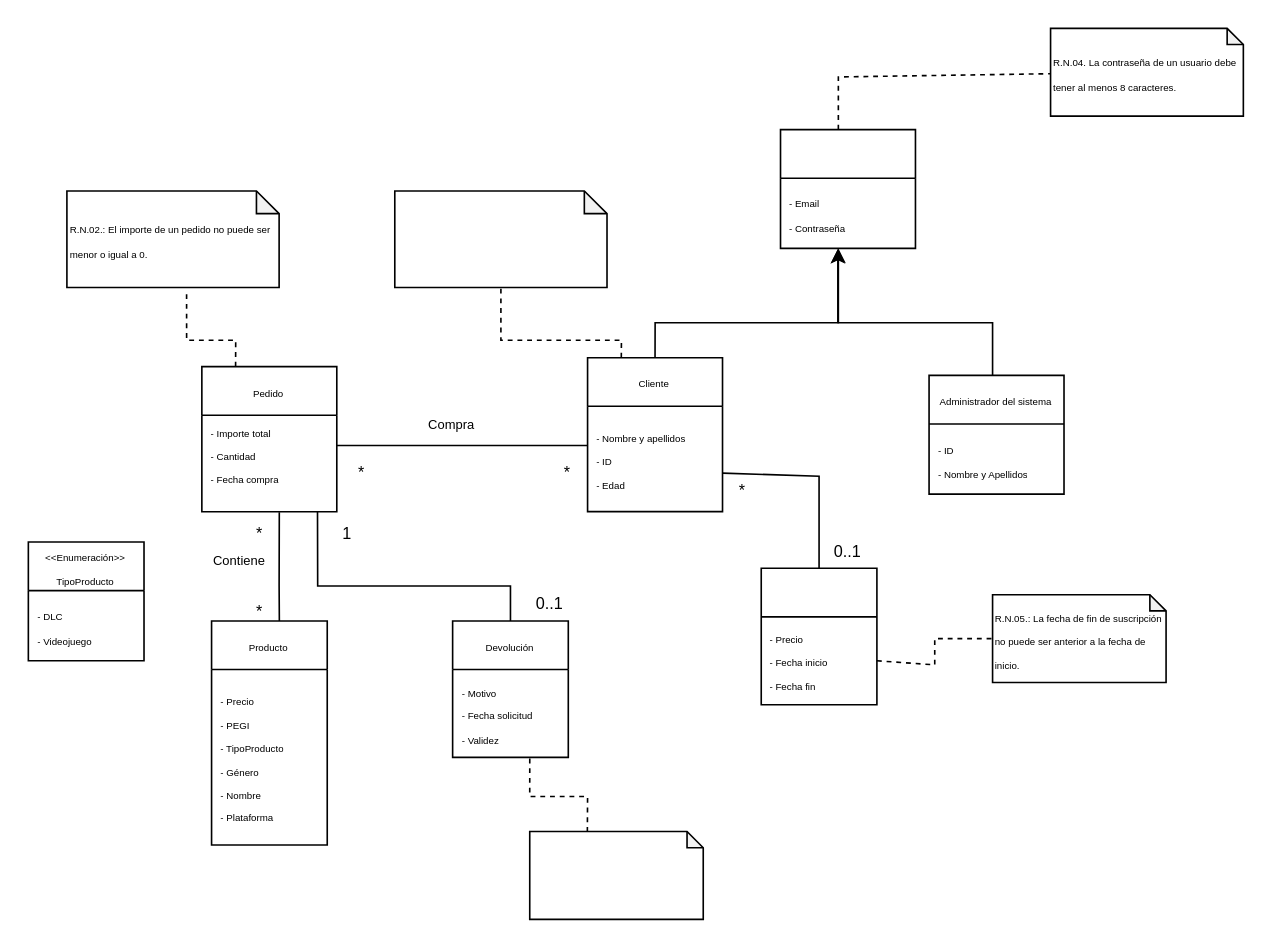
The diagram is 1272 pixels wide and 948 high, and some of its shapes have lost their labels. The box of each missing label's shape, as (x1, y1, x2, y2) in pixels:
R.N.01.: Los juegos PEGI 18 no podrán ser vendidos a menores de edad: (393, 189, 607, 288)
R.N.03.: No se puede devolver un producto tras 7 días de su compra.: (528, 830, 703, 919)
Suscripción: (760, 567, 877, 705)
Usuario: (779, 128, 915, 248)
